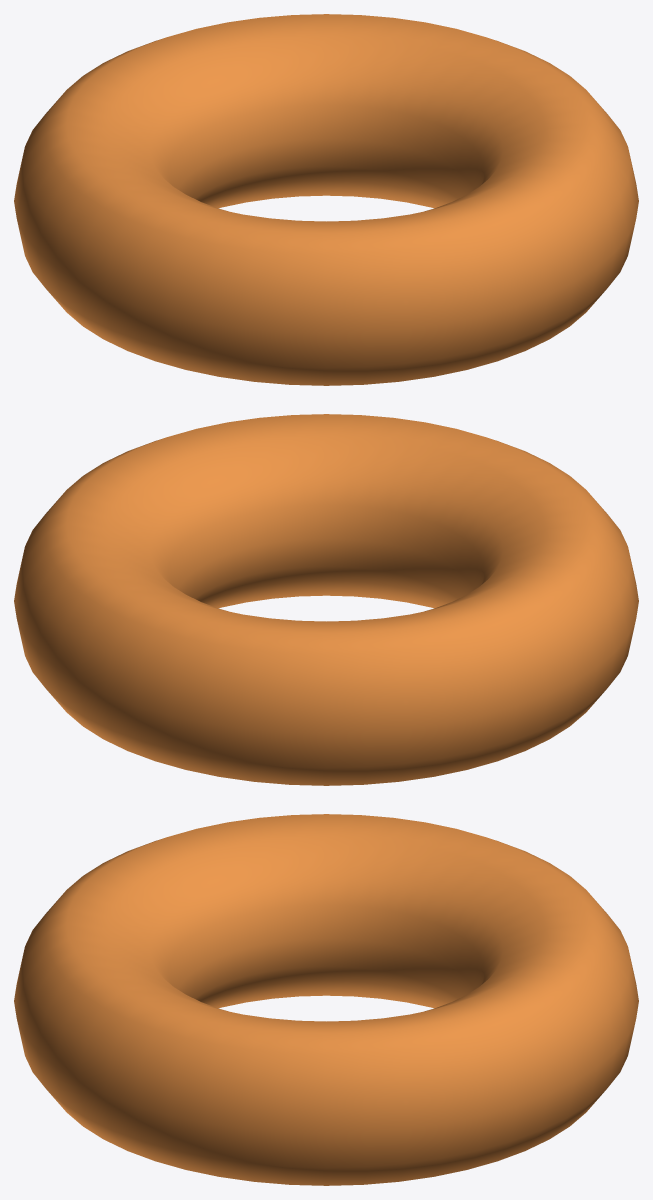
File: boia4.fbx
3 views of the same model, one above another, from view 1: azimuth 30°, elevation 25°; view 2: azimuth 150°, elevation 25°; view 3: azimuth 270°, elevation 25° (orthographic).
Visible parts, largest first — view 1: Torus; view 2: Torus; view 3: Torus.
Part boxes in pixels (x1,y1,x2,y2): Torus: (14, 14, 638, 385); Torus: (14, 414, 638, 785); Torus: (14, 814, 638, 1185).
Size of the model in its own units: 126 by 35.79 by 126.
